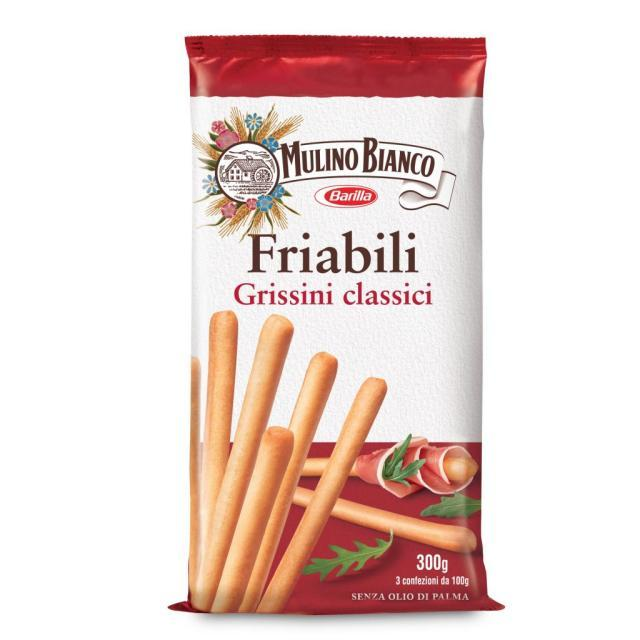Grissini: (205, 310, 387, 610)
